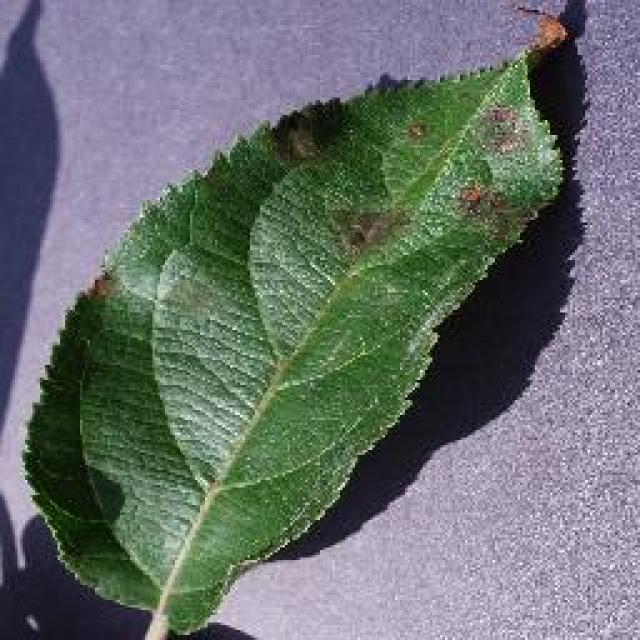apple scab disease: (20, 0, 580, 638)
